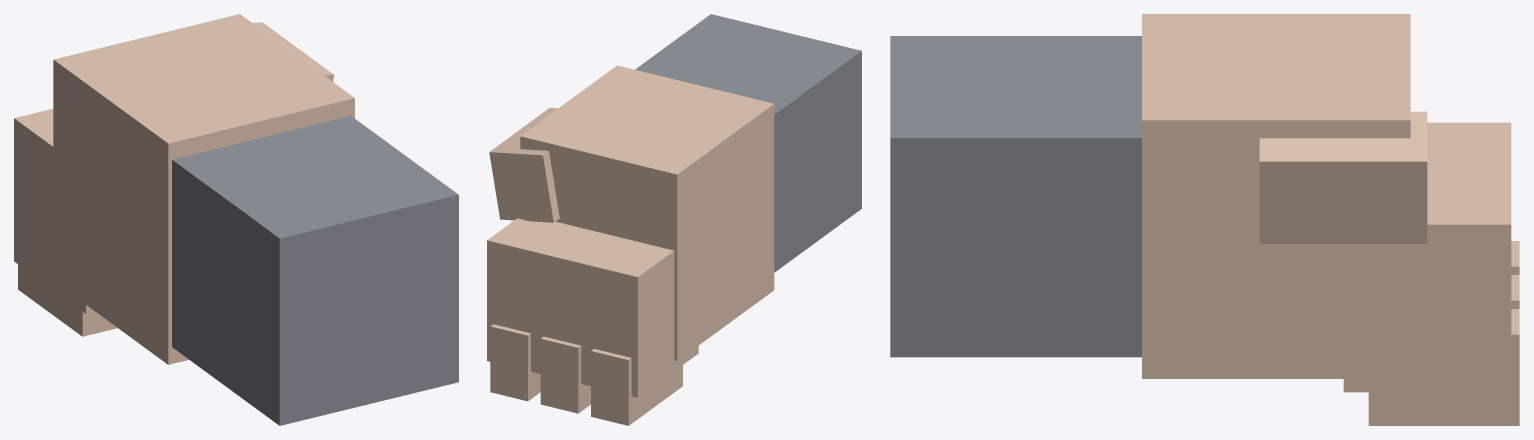
File: hand_grip.glb
3 renders of one model, left to right at view 1: azimuth 30°, elevation 25°; view 2: azimuth 150°, elevation 25°; view 3: azimuth 270°, elevation 25°, orthographic. The views are drawn at different scales.
Parts seen in each view (by area): view 1: Wrist, Palm, Fingers, FingerRidge1, Thumb; view 2: Palm, Wrist, Fingers, Thumb, FingerRidge1, FingerRidge2, FingerRidge3; view 3: Palm, Wrist, Fingers, Thumb, FingerRidge3.
Boxes of the visible parts, x1=… form: Wrist: x1=172, y1=116, x2=458, y2=425; Palm: x1=53, y1=14, x2=354, y2=364; Fingers: x1=14, y1=108, x2=94, y2=313; FingerRidge1: x1=18, y1=264, x2=117, y2=336; Thumb: x1=253, y1=22, x2=334, y2=81; Palm: x1=520, y1=65, x2=774, y2=360; Wrist: x1=635, y1=14, x2=861, y2=272; Fingers: x1=487, y1=218, x2=698, y2=397; Thumb: x1=489, y1=108, x2=559, y2=222; FingerRidge1: x1=591, y1=349, x2=682, y2=425; FingerRidge2: x1=540, y1=336, x2=590, y2=413; FingerRidge3: x1=490, y1=324, x2=540, y2=401; Palm: x1=1142, y1=14, x2=1410, y2=378; Wrist: x1=890, y1=36, x2=1141, y2=357; Fingers: x1=1343, y1=122, x2=1511, y2=392; Thumb: x1=1259, y1=111, x2=1427, y2=243; FingerRidge3: x1=1368, y1=309, x2=1519, y2=425.
Bounding box in the file's own units: 0.0869 × 0.1025 × 0.1875.
